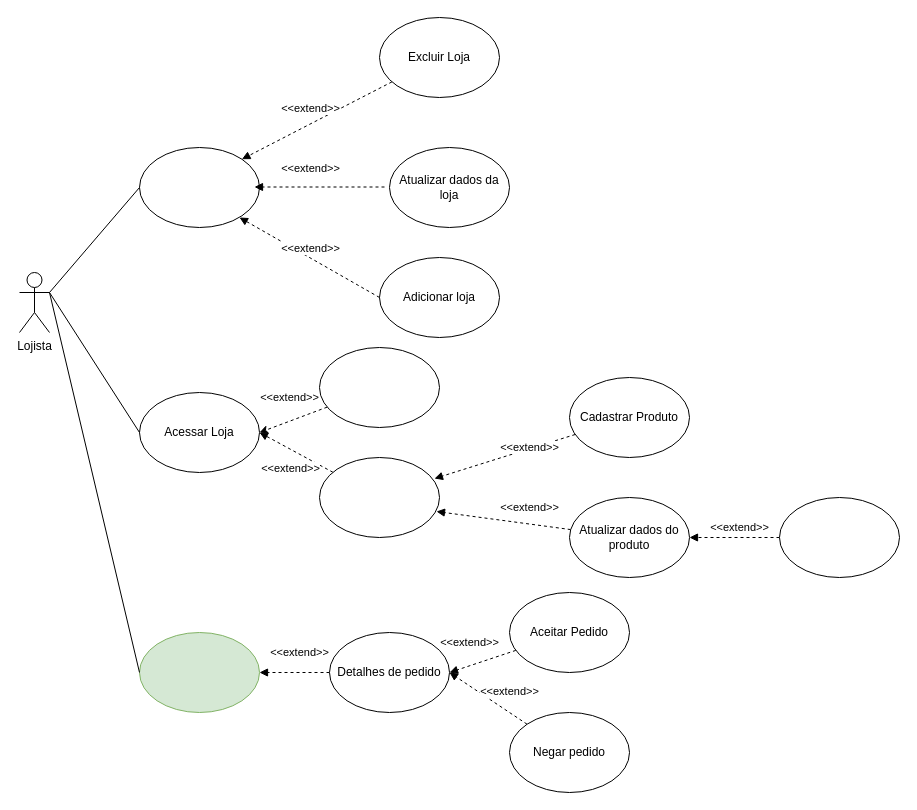
The diagram is 917 pixels wide and 810 high, and some of its shapes have lost their labels. Each missing label, with the box of its shape:
Exlcuir produto: (778, 496, 900, 578)
Gerenciar o cadastro de lojas: (138, 146, 260, 228)
Listar pedidos em aberto: (138, 632, 260, 712)
Visualizar Histórico de pedidos: (318, 346, 440, 428)
Visualizar produto e Atualizar Estoque: (318, 456, 440, 538)
